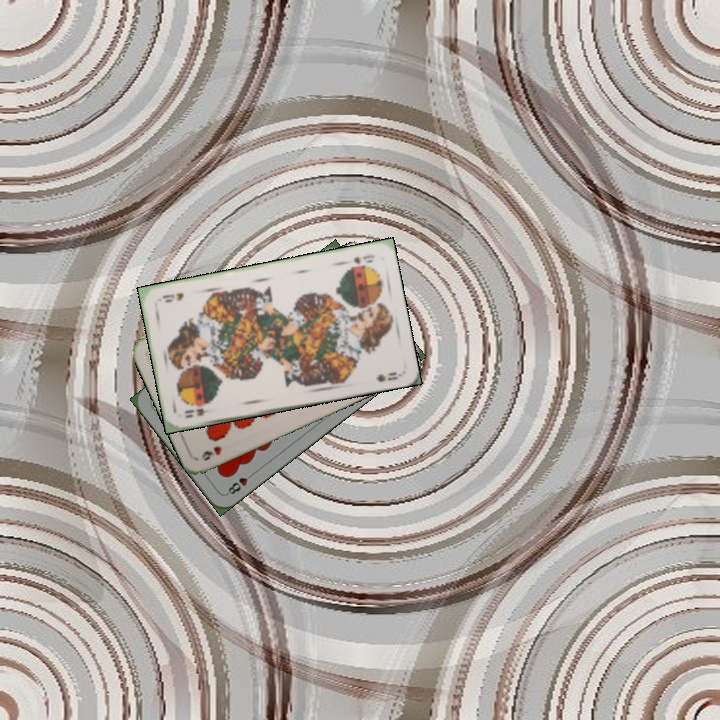H8: (223, 468, 257, 497)
H9: (198, 442, 225, 463)
SO: (180, 404, 218, 421), (340, 250, 377, 267)
